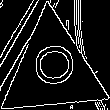O_W: (27, 46, 77, 94)
